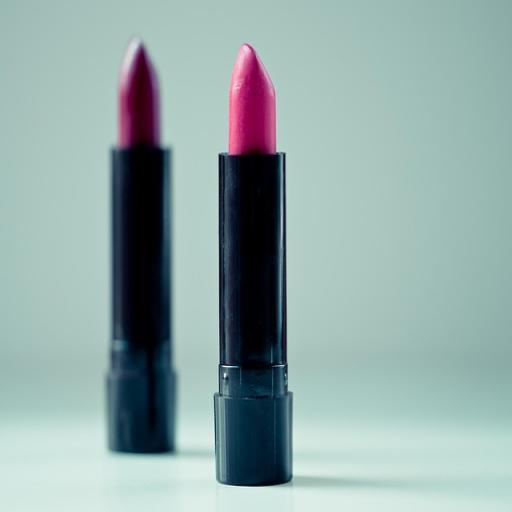lipstick: (215, 45, 291, 484), (108, 39, 175, 453)
